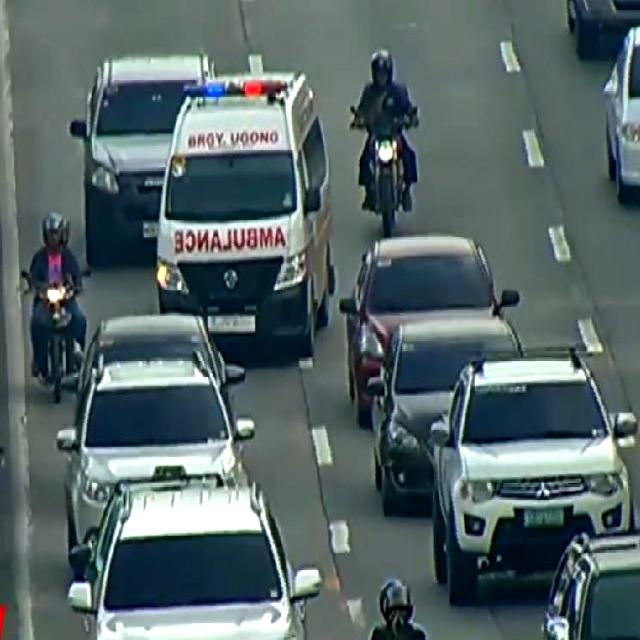emergency: (156, 76, 332, 364)
